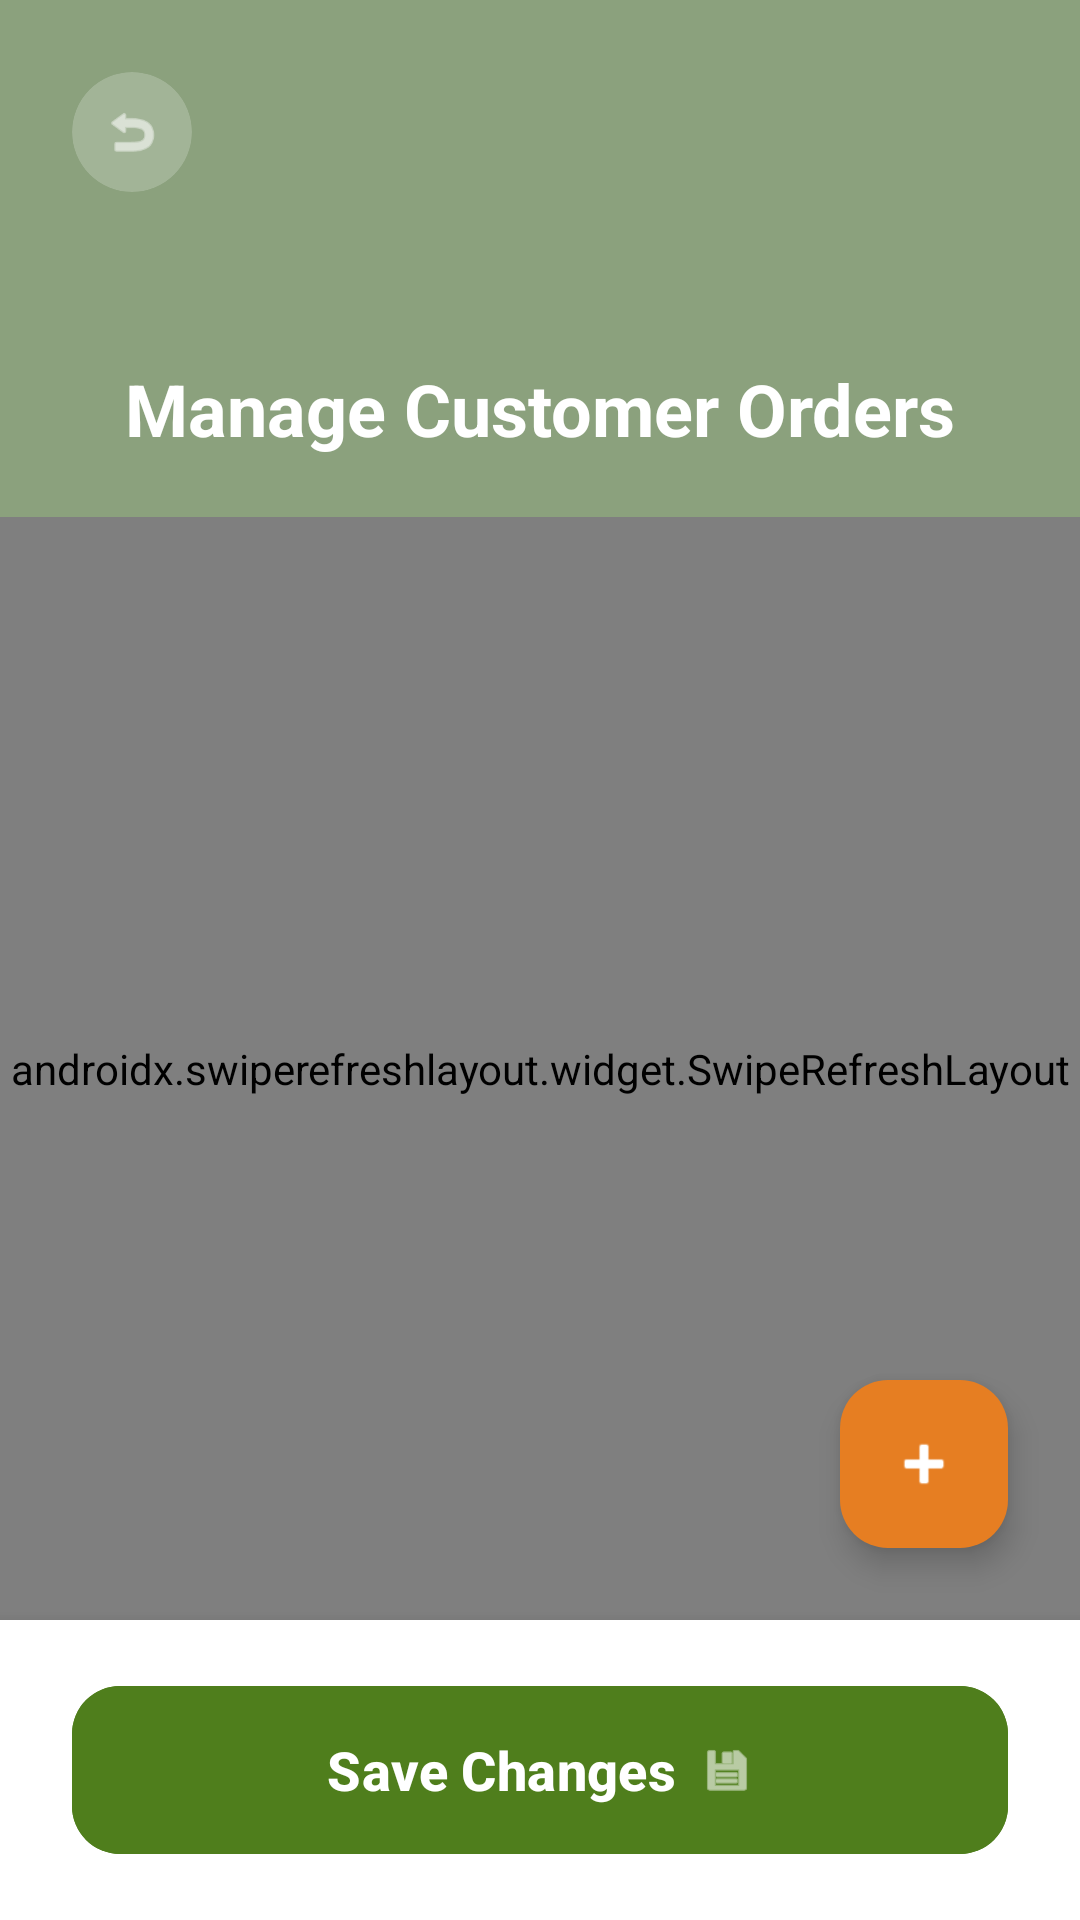

Where to tap for icons on this 1080*1920 app screen, as (x,y):
add: (924,1464)
revert: (132,132)
